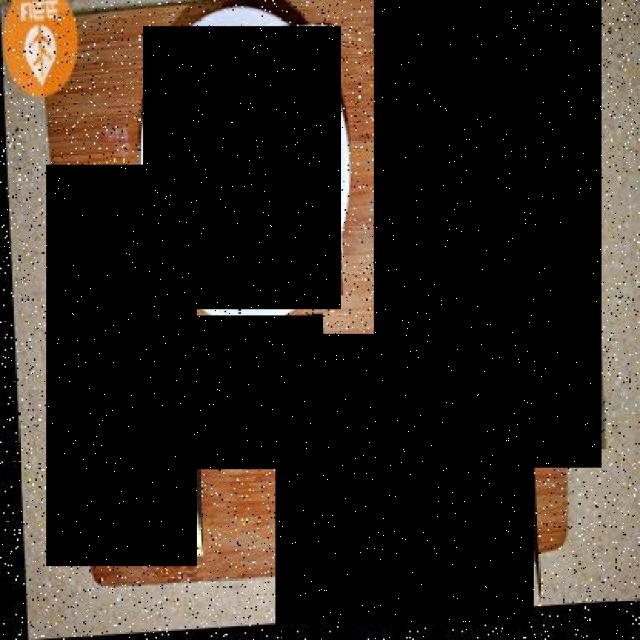Bacon: (46, 165, 197, 566)
Bread: (276, 333, 535, 624)
Cheese: (143, 26, 340, 309)
Egg: (188, 316, 324, 470)
mayonnaise: (374, 0, 601, 468)
